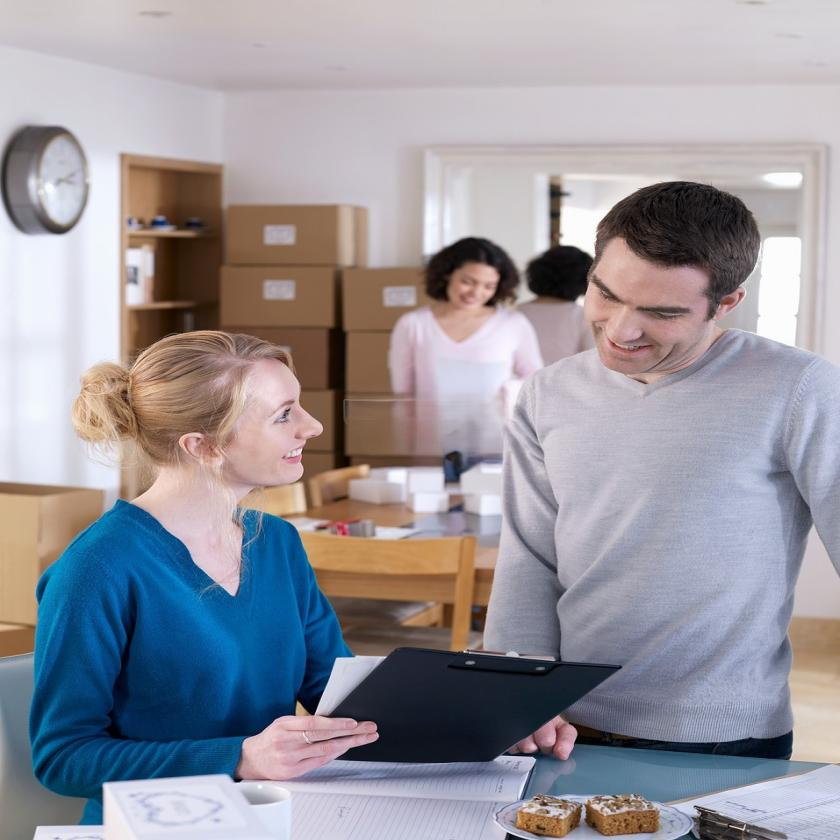Sin_casco: (127, 321, 326, 511), (580, 174, 767, 376), (420, 229, 518, 321)
